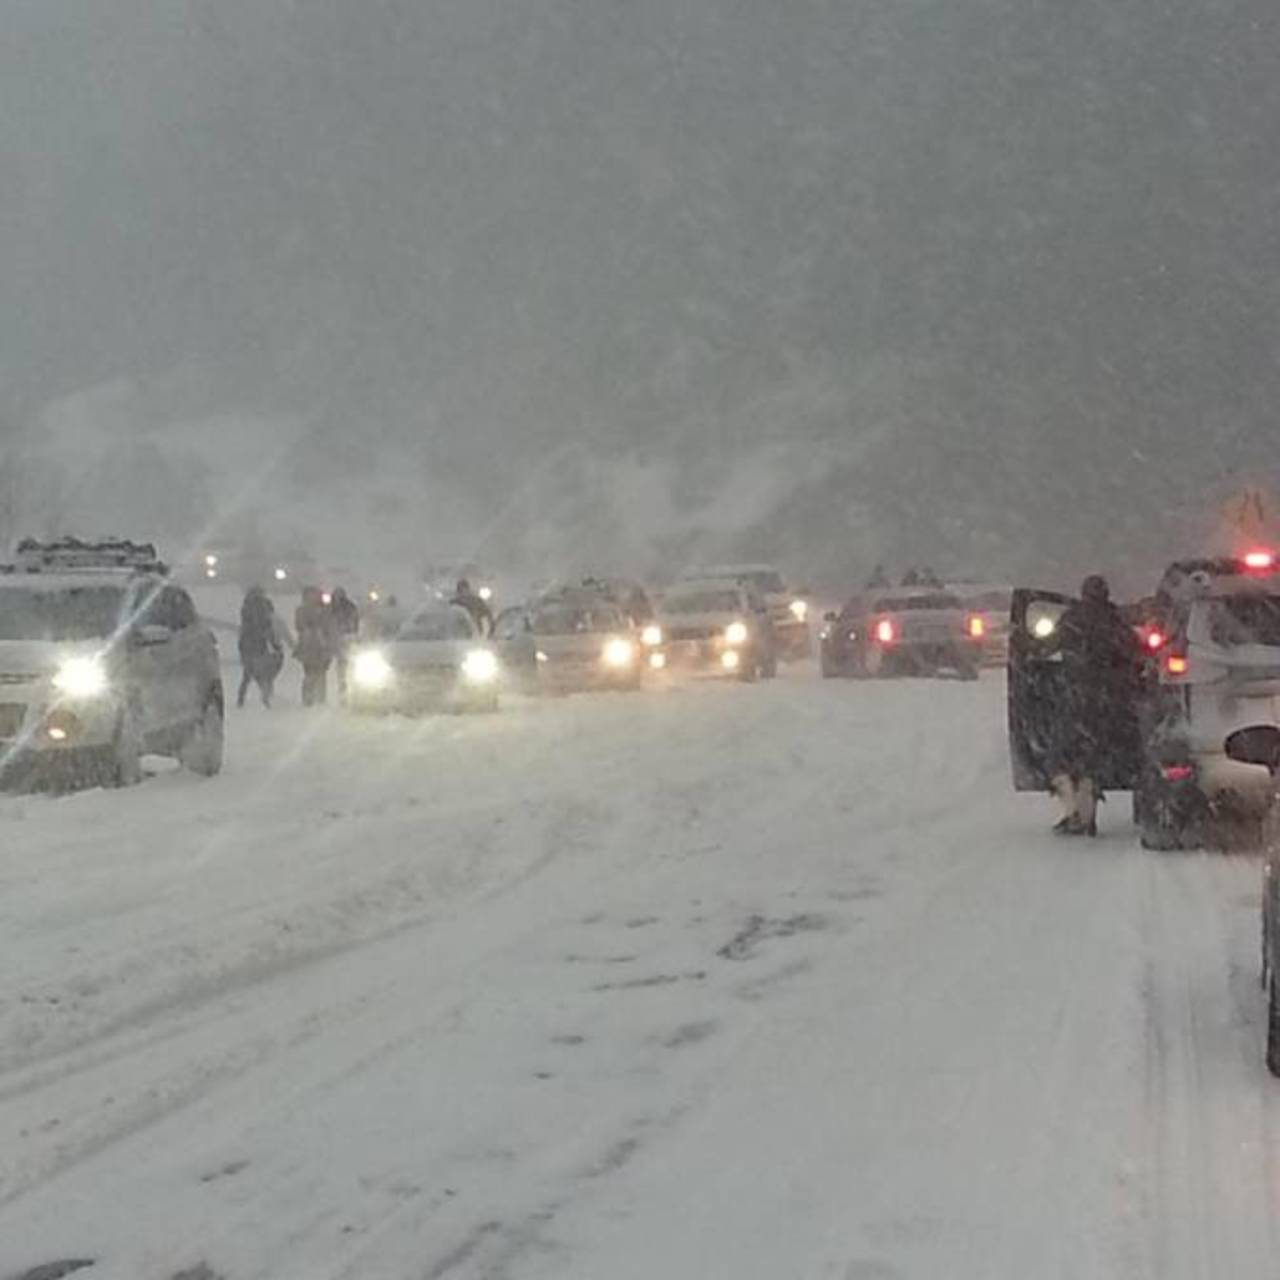car: (1016, 555, 1265, 818), (4, 552, 222, 798), (817, 572, 996, 684), (493, 586, 654, 698), (347, 600, 488, 713), (652, 576, 792, 684), (742, 552, 814, 664), (417, 544, 494, 615), (191, 531, 257, 577)
person: (1030, 574, 1153, 832), (295, 584, 342, 708), (237, 584, 283, 710), (447, 572, 494, 623)
